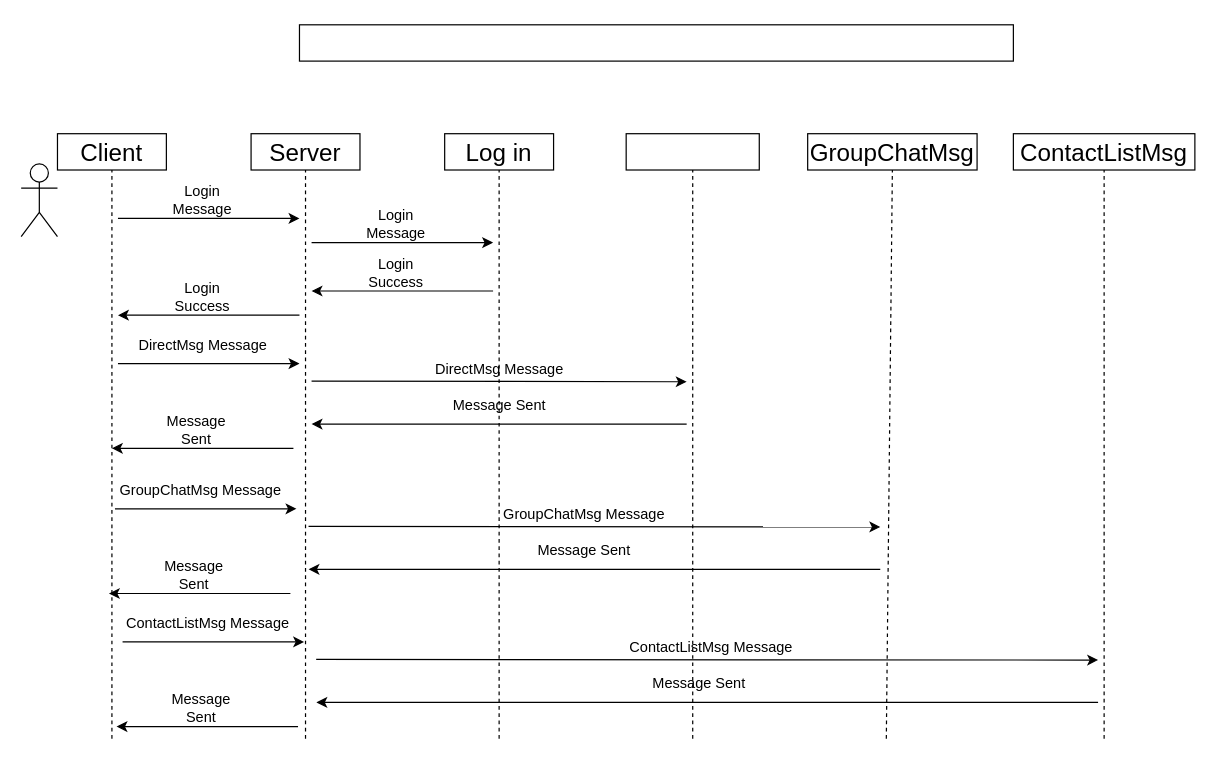
This 1216x761 diagram has some shape labels left out. The shapes that lost their labels are listed below. From the top down, each one's centre as x and y in pixels, then its label:
the point at 655,42: Server/Client/Message Sequence Diagram
the point at 692,151: DirectMsg
the point at 38,200: User
